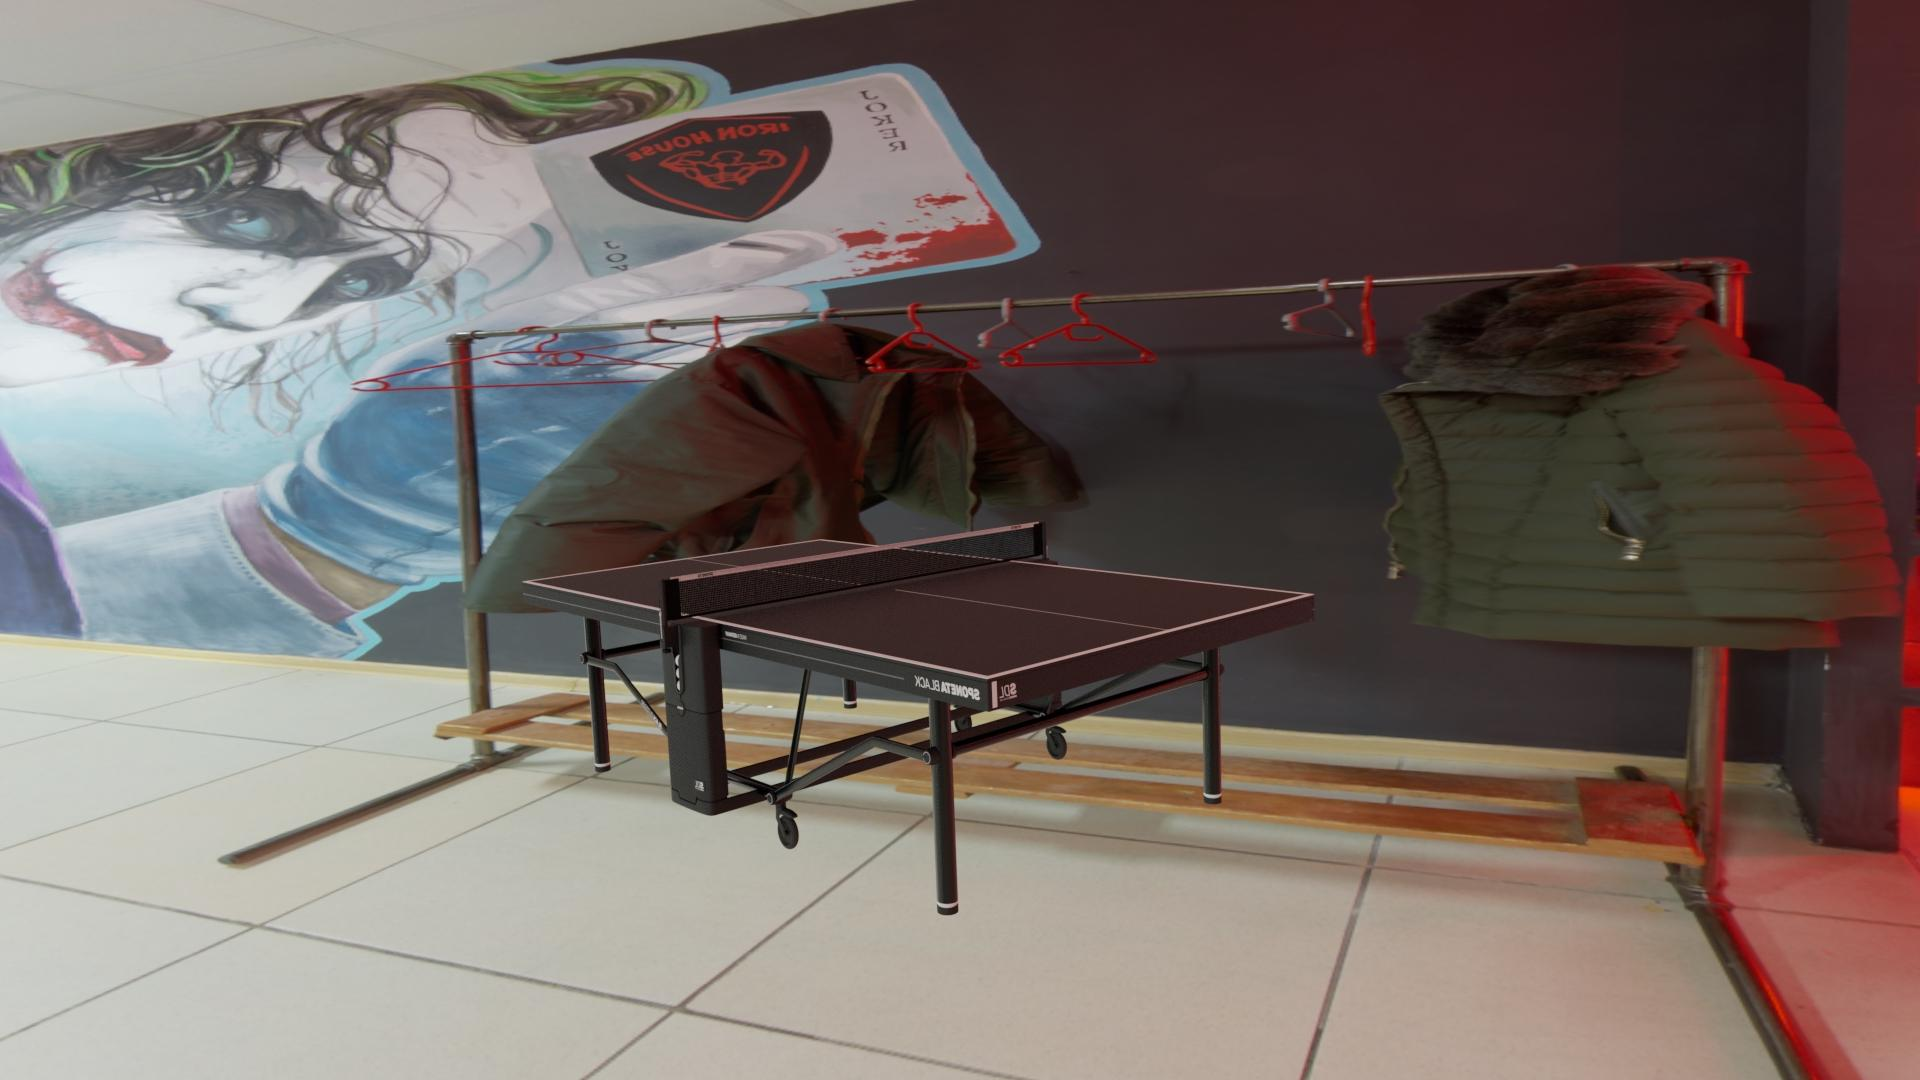table: (529, 541, 1305, 676)
